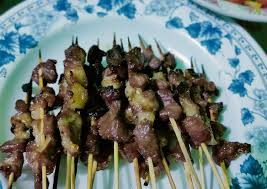sate: (5, 30, 253, 182)
